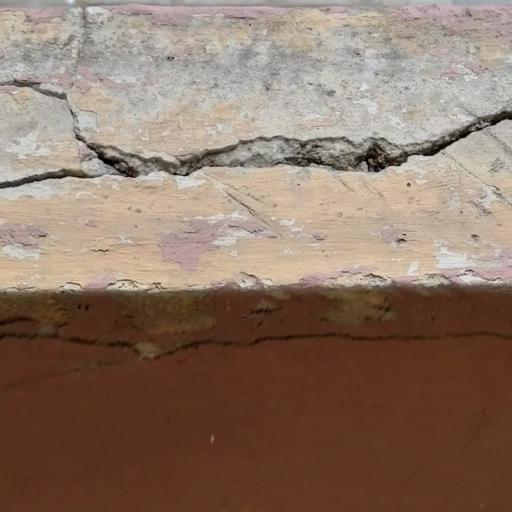major_crack: (0, 53, 512, 200), (0, 303, 512, 378)
